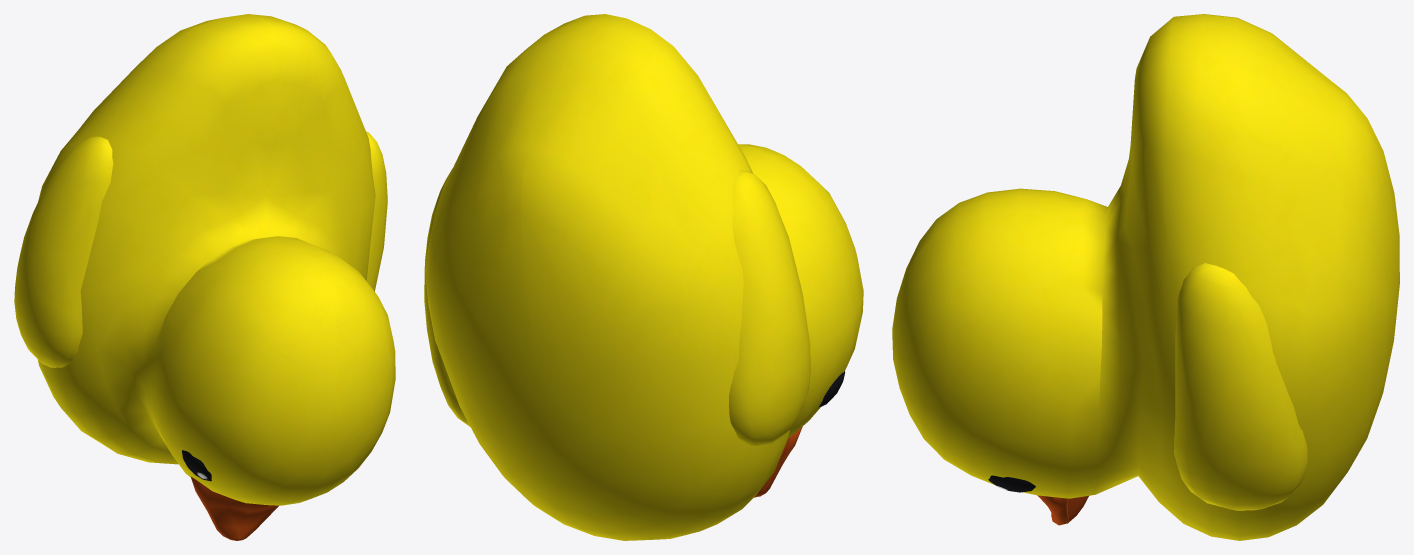
Rendered from duckerModel-transformed.glb.
The picture shows the model from 3 angles, left to right: view 1: azimuth 30°, elevation 25°; view 2: azimuth 150°, elevation 25°; view 3: azimuth 270°, elevation 25°; orthographic projection. The views are drawn at different scales.
Parts seen in each view (by area): view 1: Sphere001; view 2: Sphere001; view 3: Sphere001.
Part boxes in pixels (box(x1,y1,x2,y2)): Sphere001: box(14, 14, 395, 540); Sphere001: box(424, 14, 863, 540); Sphere001: box(892, 14, 1399, 540).
Bounding box in the file's own units: 273 × 346 × 299.
Materials: 1 (1 with a texture image).
